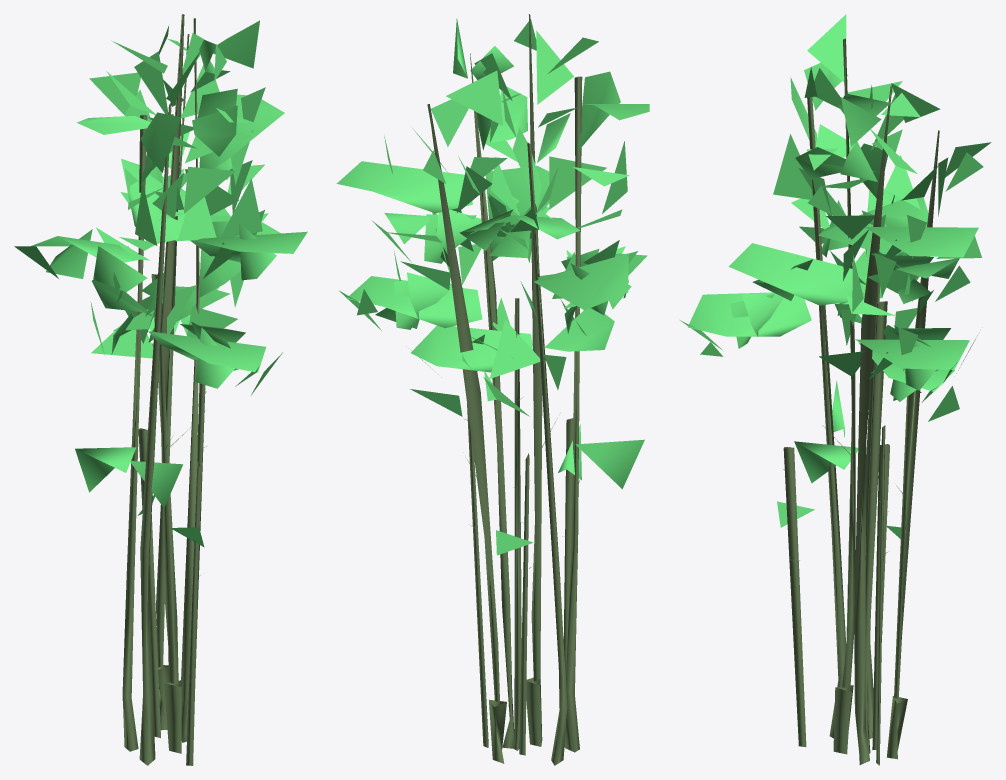
File: Bamboo_Cluster2_LOD2.fbx
3 renders of one model, left to right at view 1: azimuth 30°, elevation 25°; view 2: azimuth 150°, elevation 25°; view 3: azimuth 270°, elevation 25°, orthographic. The views are drawn at different scales.
Visible parts, largest first — view 1: Bamboo_Cluster2_LOD2; view 2: Bamboo_Cluster2_LOD2; view 3: Bamboo_Cluster2_LOD2.
Boxes of the visible parts, x1,y1,x2,y2 form: Bamboo_Cluster2_LOD2: (14,14,307,765); Bamboo_Cluster2_LOD2: (336,14,649,765); Bamboo_Cluster2_LOD2: (680,14,991,765).
Bounding box in the file's own units: 939 × 2426 × 961.
